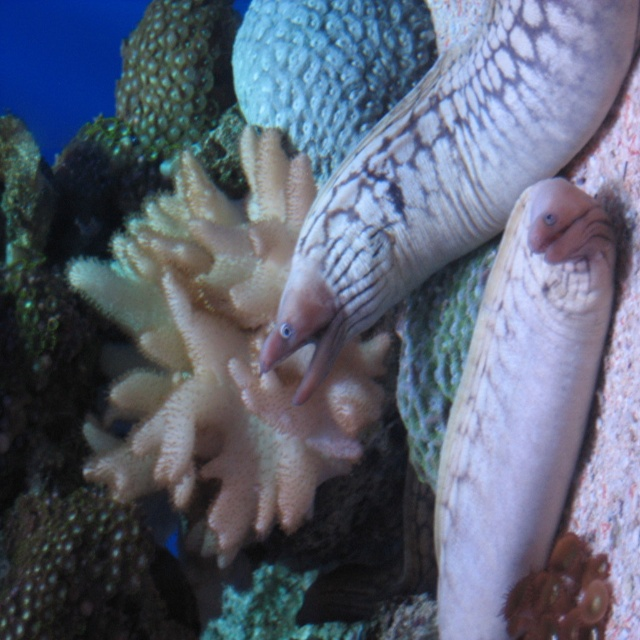Fish: (428, 173, 615, 637)
